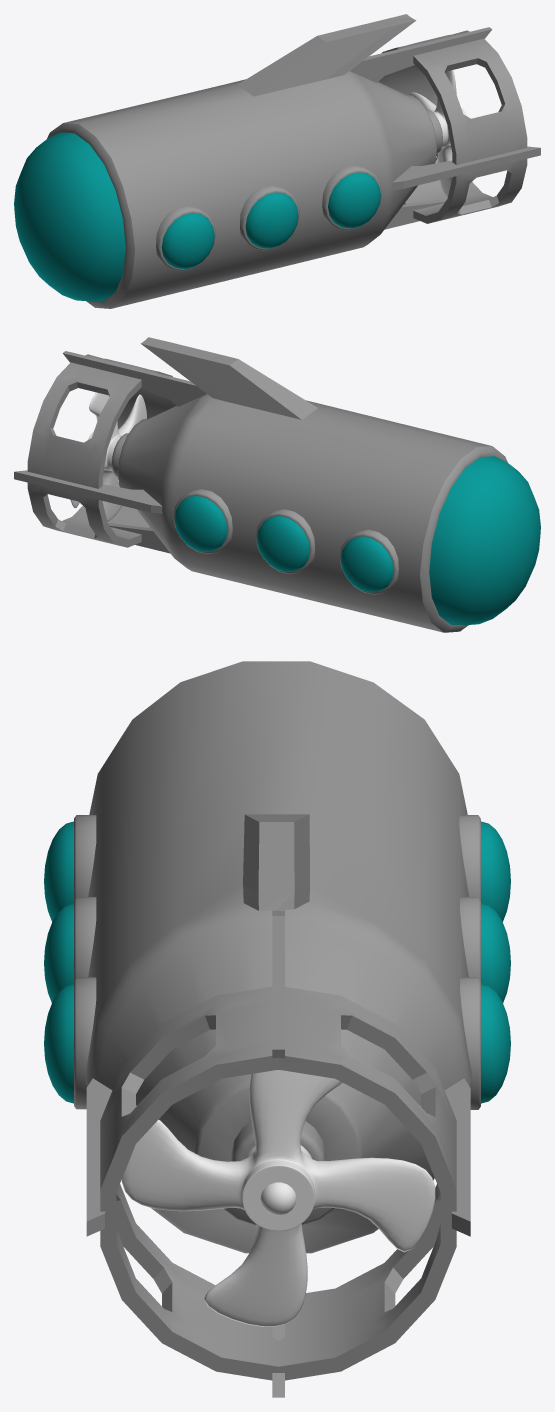
The model's file is PredatorBlockout.FBX.
The picture shows the model from 3 angles, top to bottom: view 1: azimuth 30°, elevation 25°; view 2: azimuth 150°, elevation 25°; view 3: azimuth 270°, elevation 25°; orthographic projection. The views are drawn at different scales.
Parts seen in each view (by area): view 1: SubBody, Propeller; view 2: SubBody, Propeller; view 3: SubBody, Propeller.
Boxes of the visible parts, box(x1,y1,x2,y2) form: SubBody: box(14, 14, 540, 308); Propeller: box(409, 70, 477, 198); SubBody: box(14, 337, 540, 632); Propeller: box(70, 392, 146, 521); SubBody: box(44, 661, 510, 1397); Propeller: box(121, 1070, 435, 1326).
Size of the model in its own units: 66.2 by 28.07 by 28.87.
